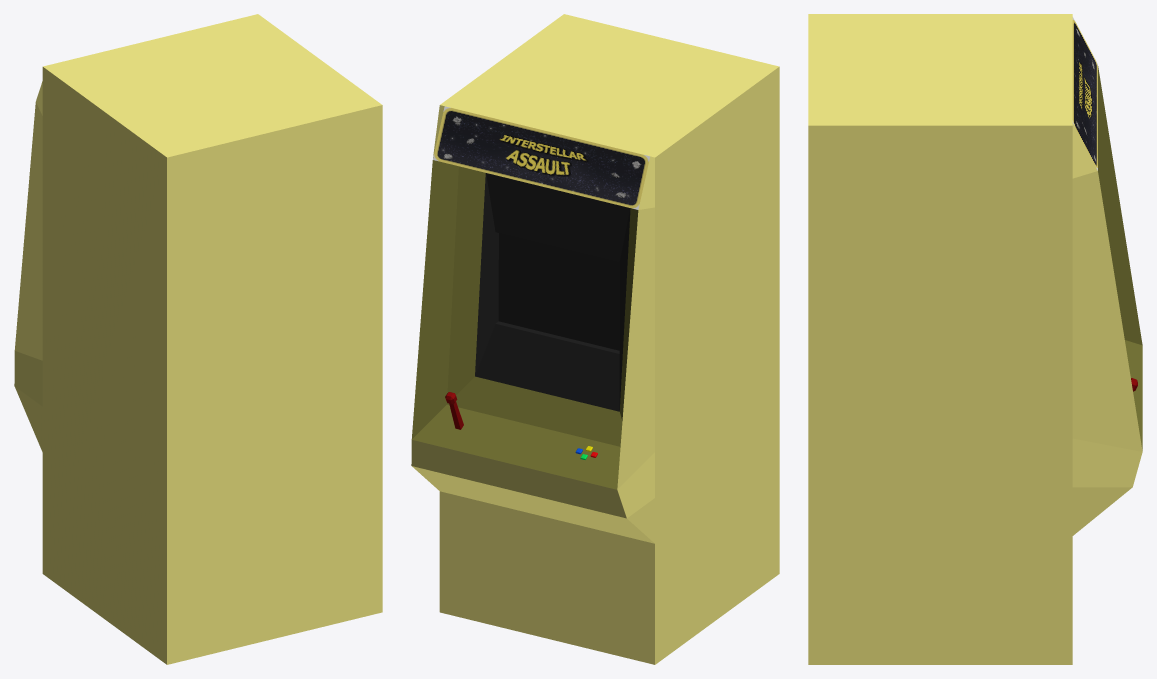
The model's file is arcademachine.fbx.
The picture shows the model from 3 angles, left to right: view 1: azimuth 30°, elevation 25°; view 2: azimuth 150°, elevation 25°; view 3: azimuth 270°, elevation 25°; orthographic projection. The views are drawn at different scales.
Parts seen in each view (by area): view 1: ArcadeMachine; view 2: ArcadeMachine; view 3: ArcadeMachine.
Part boxes in pixels (left/top/right/bottom): ArcadeMachine: left=14, top=14, right=382, bottom=664; ArcadeMachine: left=411, top=14, right=779, bottom=664; ArcadeMachine: left=808, top=14, right=1142, bottom=664.
Bounding box in the file's own units: 200 × 450 × 253.
